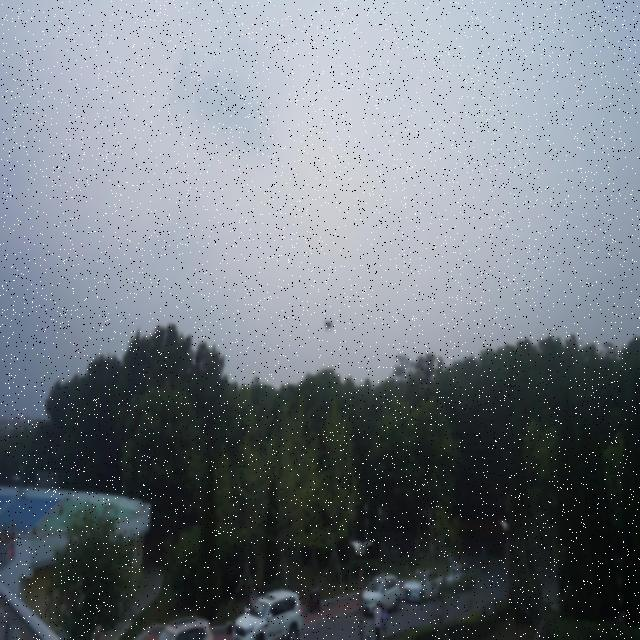UAV: (324, 320, 333, 332)
